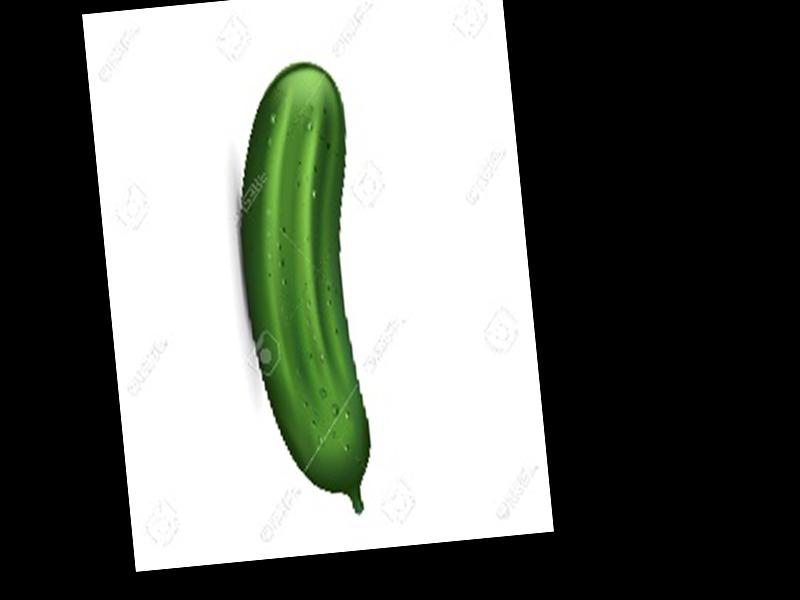Cucumber: (222, 58, 382, 521)
